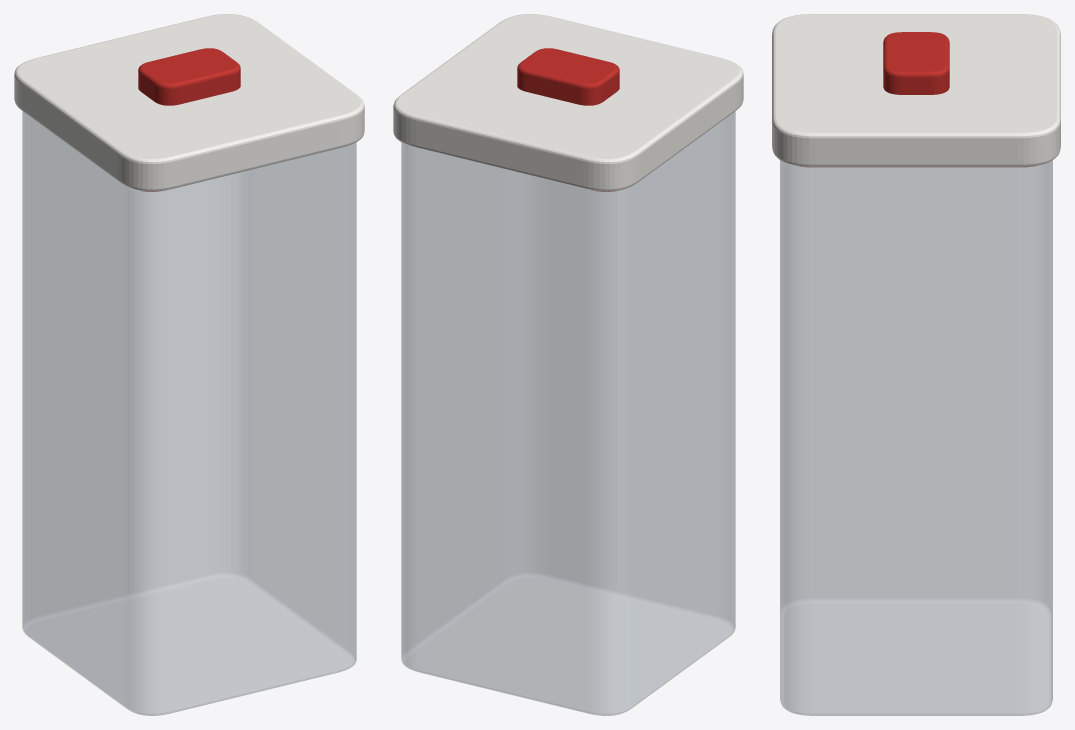
File: smart-seal.glb
3 views of the same model, side by side, from view 1: azimuth 30°, elevation 25°; view 2: azimuth 150°, elevation 25°; view 3: azimuth 270°, elevation 25° (orthographic). The views are drawn at different scales.
Parts seen in each view (by area): view 1: Container, LidPanel, Tab; view 2: Container, LidPanel, Tab; view 3: Container, LidPanel, Tab.
Part boxes in pixels (box(x1,y1,x2,y2)): Container: box(22, 111, 356, 715); LidPanel: box(14, 14, 364, 191); Tab: box(138, 48, 240, 105); Container: box(401, 111, 735, 715); LidPanel: box(393, 14, 743, 191); Tab: box(517, 48, 619, 105); Container: box(780, 160, 1052, 715); LidPanel: box(772, 14, 1060, 166); Tab: box(883, 32, 949, 94).
Size of the model in its own units: 0.109 by 0.253 by 0.109.
